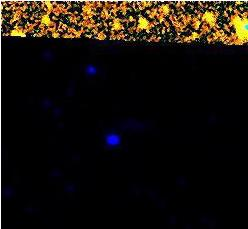star: (31, 6, 61, 36)
